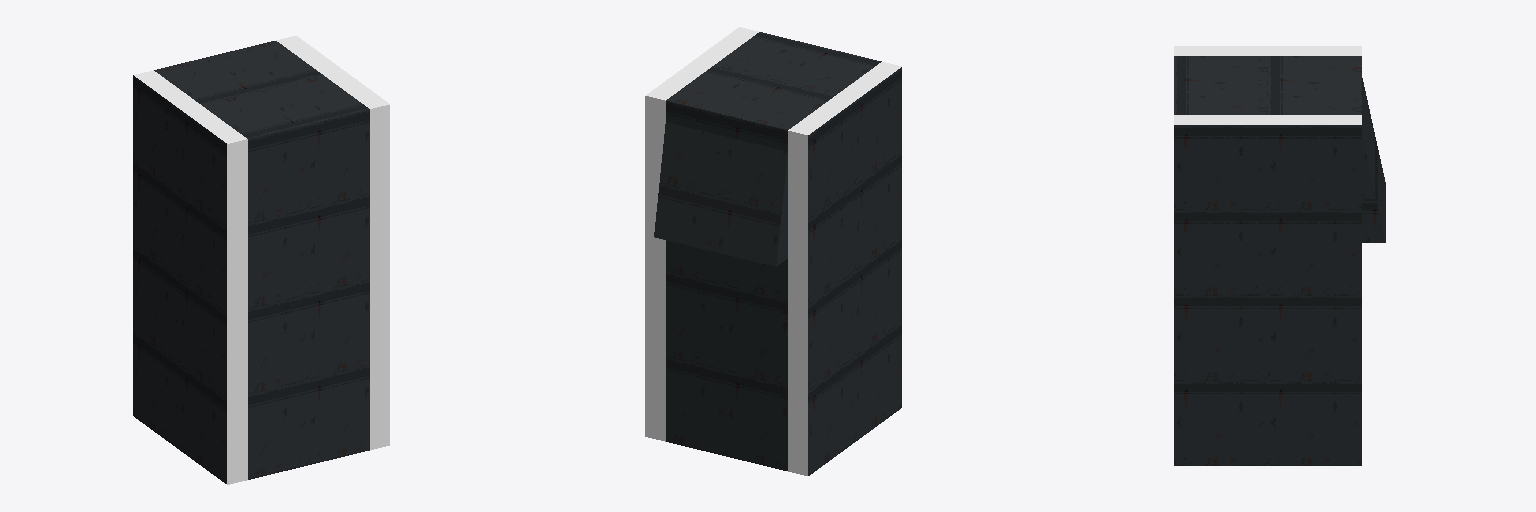
3 views of the same model, side by side, from view 1: azimuth 30°, elevation 25°; view 2: azimuth 150°, elevation 25°; view 3: azimuth 270°, elevation 25° (orthographic).
Visible parts, largest first — view 1: Craft Bench; view 2: Craft Bench; view 3: Craft Bench.
Boxes of the visible parts, x1=… form: Craft Bench: x1=133, y1=36, x2=389, y2=484; Craft Bench: x1=645, y1=27, x2=901, y2=475; Craft Bench: x1=1174, y1=46, x2=1385, y2=465.
Bounding box in the file's own units: 2 × 4 × 2.25.
Materials: 4 (1 with a texture image).